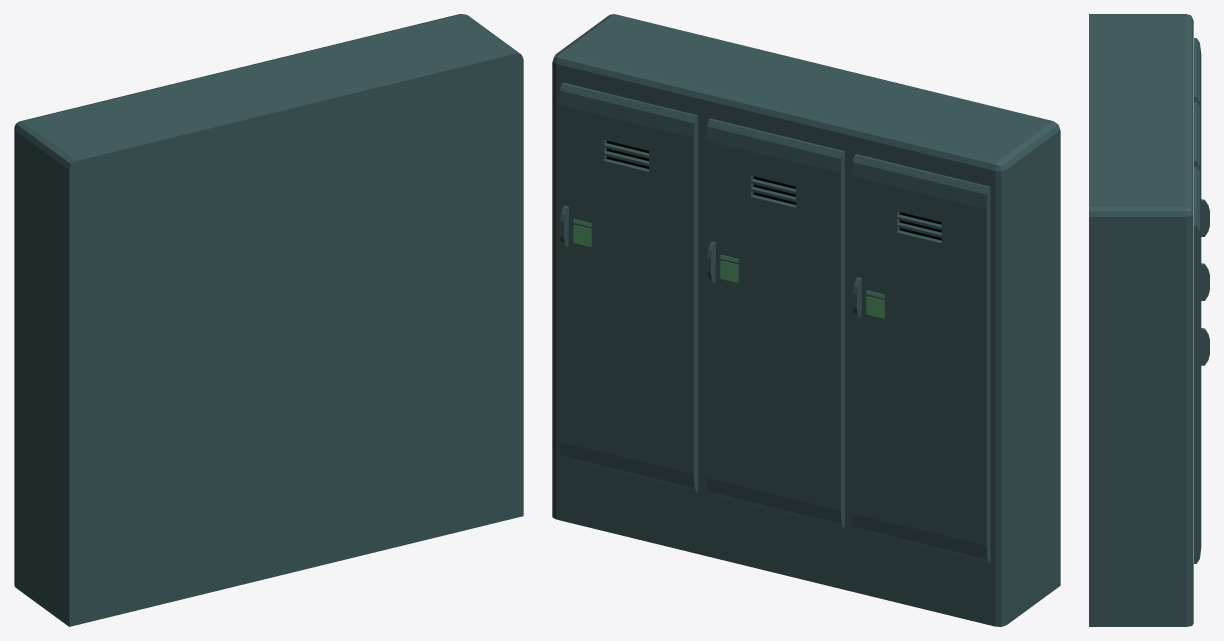
File: TrippleLocker.fbx
The picture shows the model from 3 angles, left to right: view 1: azimuth 30°, elevation 25°; view 2: azimuth 150°, elevation 25°; view 3: azimuth 270°, elevation 25°; orthographic projection. The views are drawn at different scales.
Visible parts, largest first — view 1: Locker Tripple; view 2: Locker Tripple; view 3: Locker Tripple.
Boxes of the visible parts, <box> form: Locker Tripple: <box>14,14,523,626</box>; Locker Tripple: <box>552,14,1060,626</box>; Locker Tripple: <box>1089,14,1209,626</box>.
Bounding box in the file's own units: 180 × 176 × 46.18.
